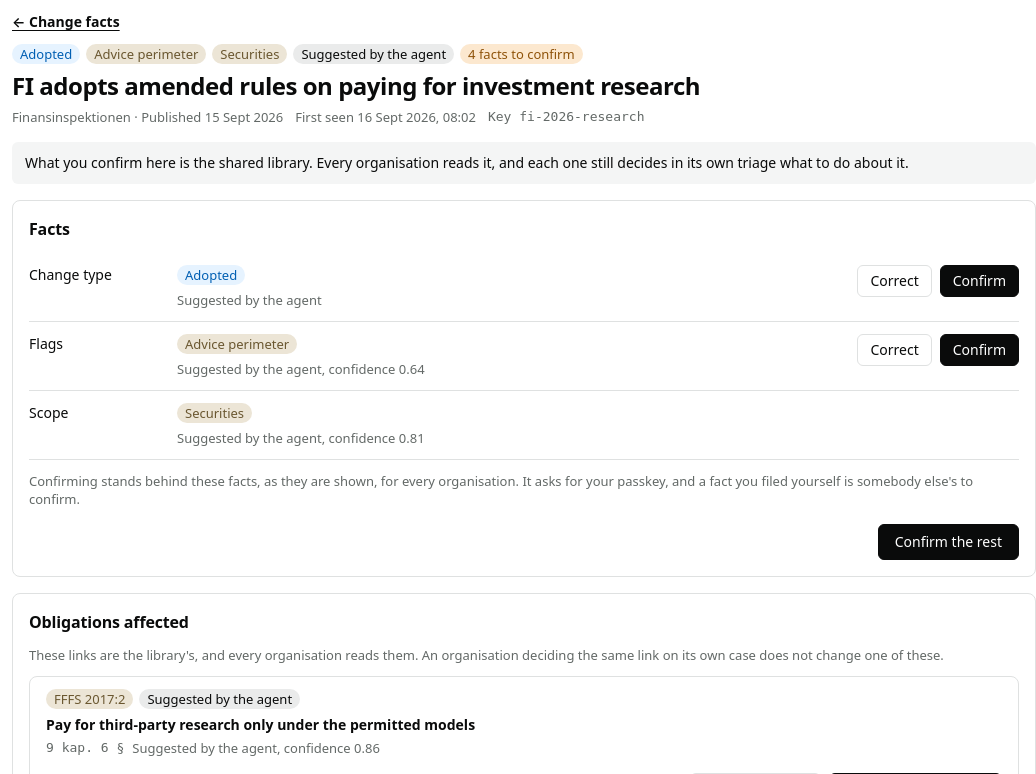
Test case: console change facts detail › confirms a suggested type by its key, after a passkey, and the fact then reads confirmed by a person
Expected: the heading "FI adopts amended rules on paying for investment research" is shown, [12,69,700,102]
Click the button "Confirm" in the row of "Change type" at (979, 281), box [940,265,1019,297]
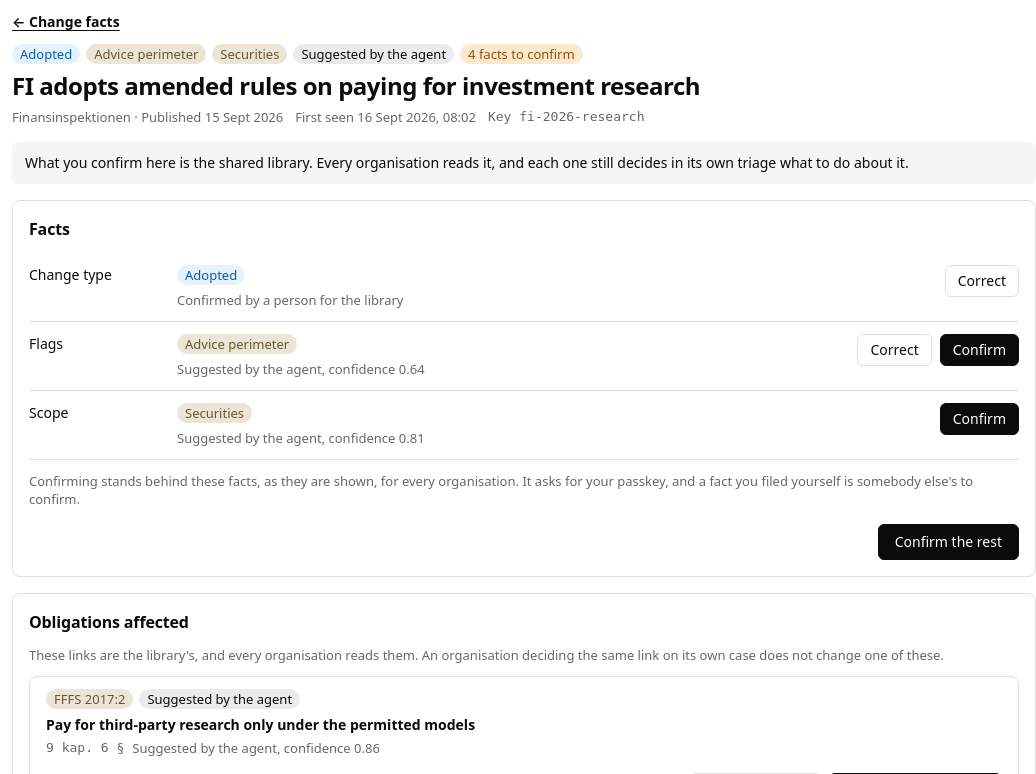
Now the text "Confirmed by a person for the library" is shown, box [177,291,403,309]
